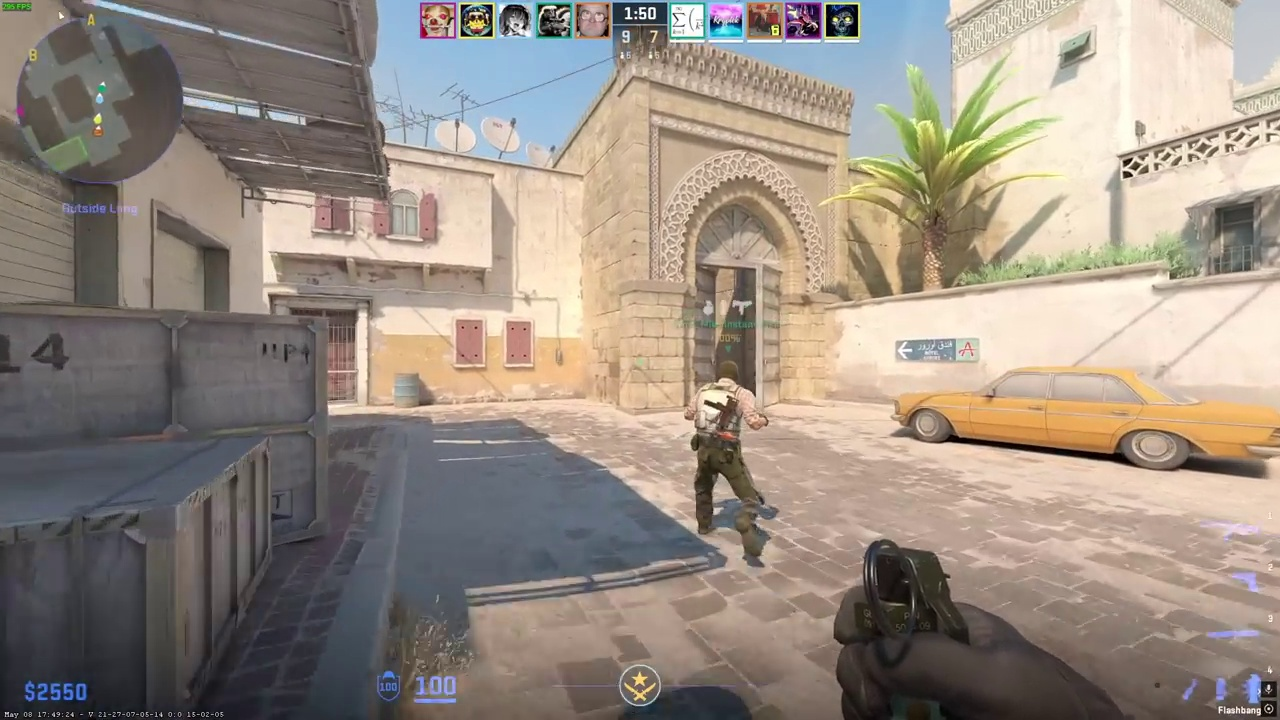Terrorist: (685, 358, 771, 568)
